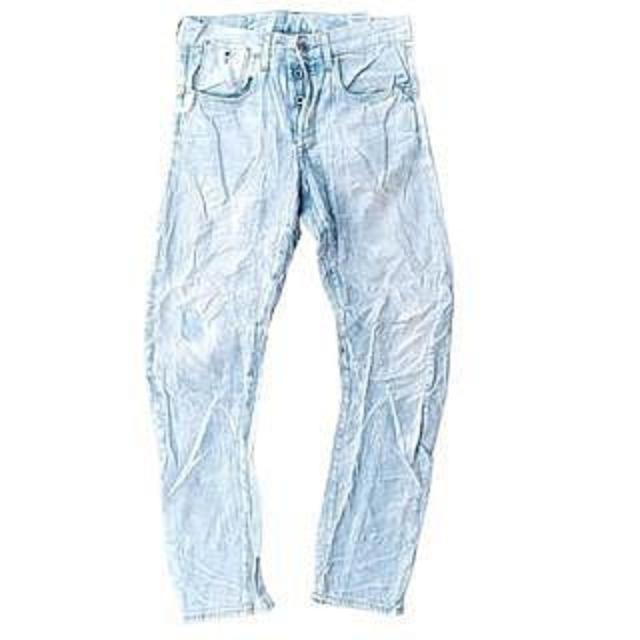TROUSER: (128, 2, 472, 626)
